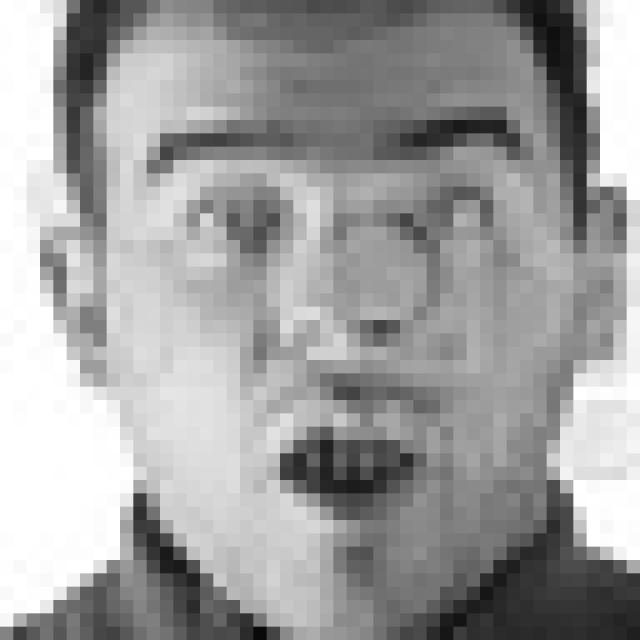surprise: (138, 97, 541, 530)
